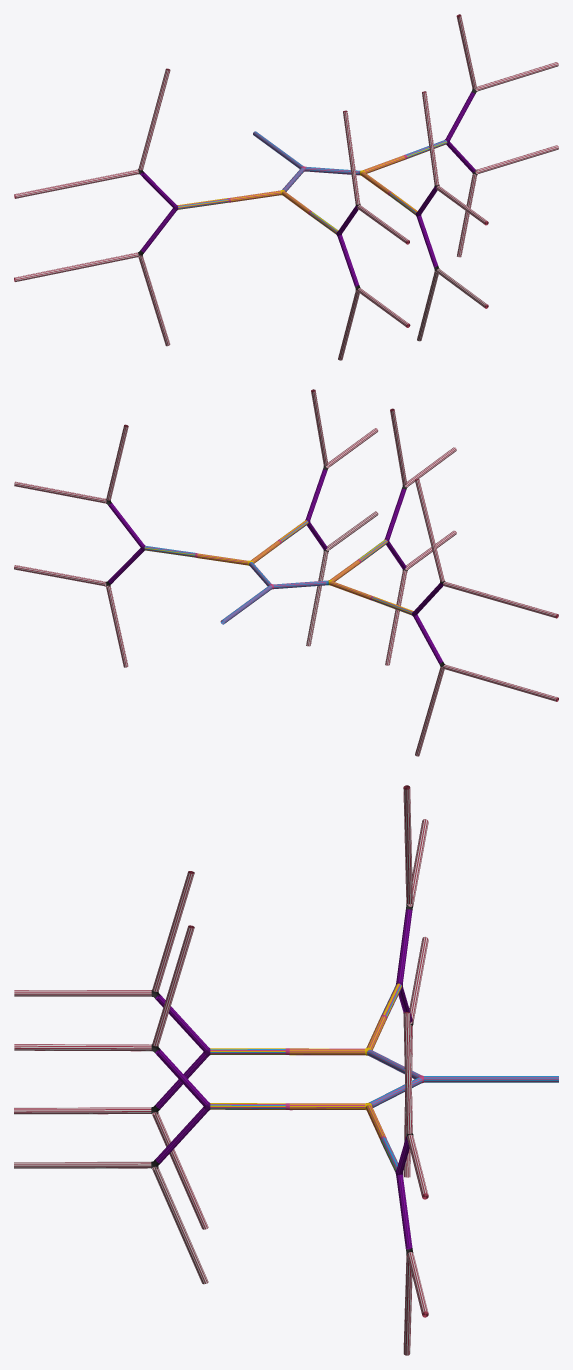
The model's file is mod_level_fullPsy.fbx.
3 views of the same model, one above another, from view 1: azimuth 30°, elevation 25°; view 2: azimuth 150°, elevation 25°; view 3: azimuth 270°, elevation 25° (orthographic). The views are drawn at different scales.
Parts seen in each view (by area): view 1: mod_tunnel; view 2: mod_tunnel; view 3: mod_tunnel.
Part boxes in pixels (<box>): mod_tunnel: <box>14,14,558,360</box>; mod_tunnel: <box>14,389,558,756</box>; mod_tunnel: <box>14,785,558,1355</box>.
Size of the model in its own units: 14711 by 7153 by 9030.
